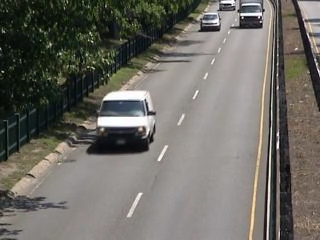car: (197, 12, 223, 32), (217, 1, 237, 13)
truck: (93, 90, 159, 150), (238, 1, 266, 28)
